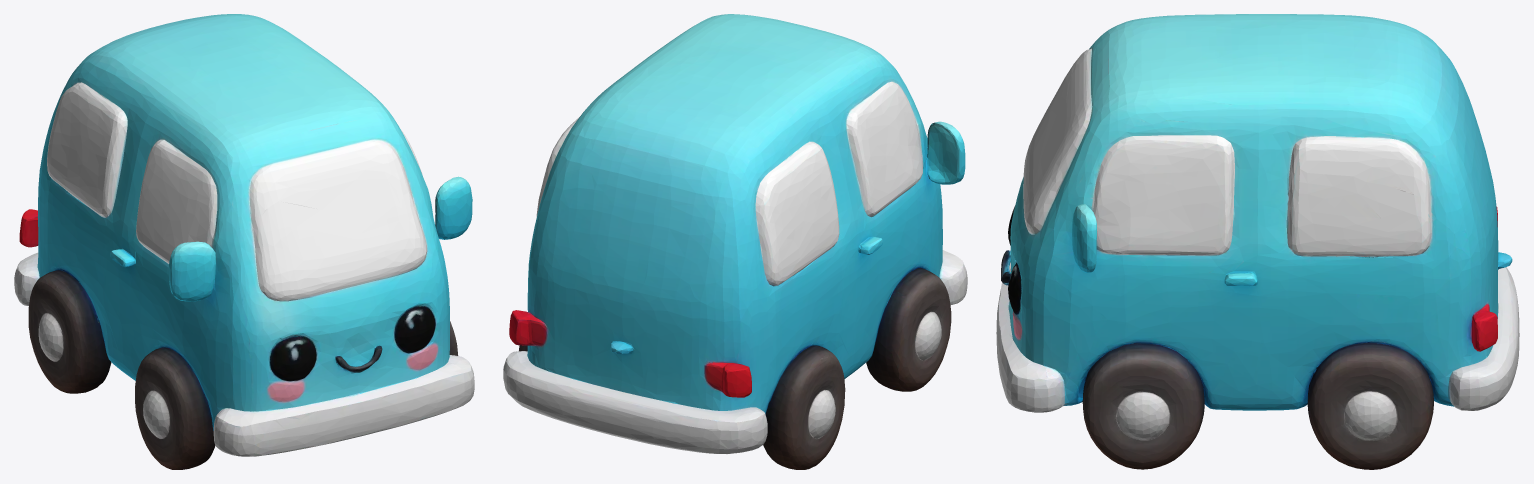
The model's file is van.glb.
The picture shows the model from 3 angles, left to right: view 1: azimuth 30°, elevation 25°; view 2: azimuth 150°, elevation 25°; view 3: azimuth 270°, elevation 25°; orthographic projection. The views are drawn at different scales.
Parts seen in each view (by area): view 1: geometry_0; view 2: geometry_0; view 3: geometry_0.
Part boxes in pixels (bbox=[...]): geometry_0: bbox=[14, 14, 474, 469]; geometry_0: bbox=[503, 14, 967, 469]; geometry_0: bbox=[996, 14, 1519, 469].
Bounding box in the file's own units: 0.7158 × 0.7553 × 0.9983.
1 material, 1 textured.
